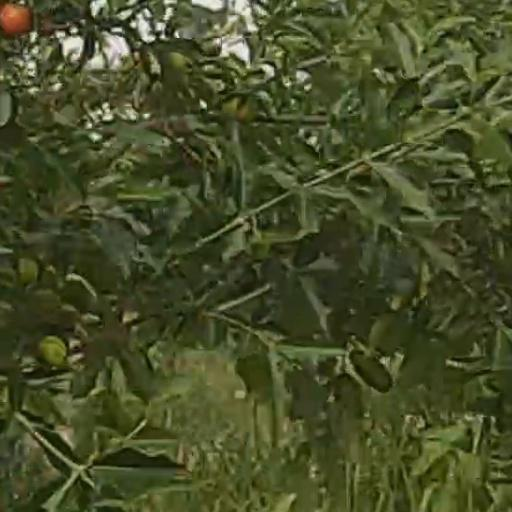acerola: (1, 4, 31, 35), (40, 336, 63, 362)
